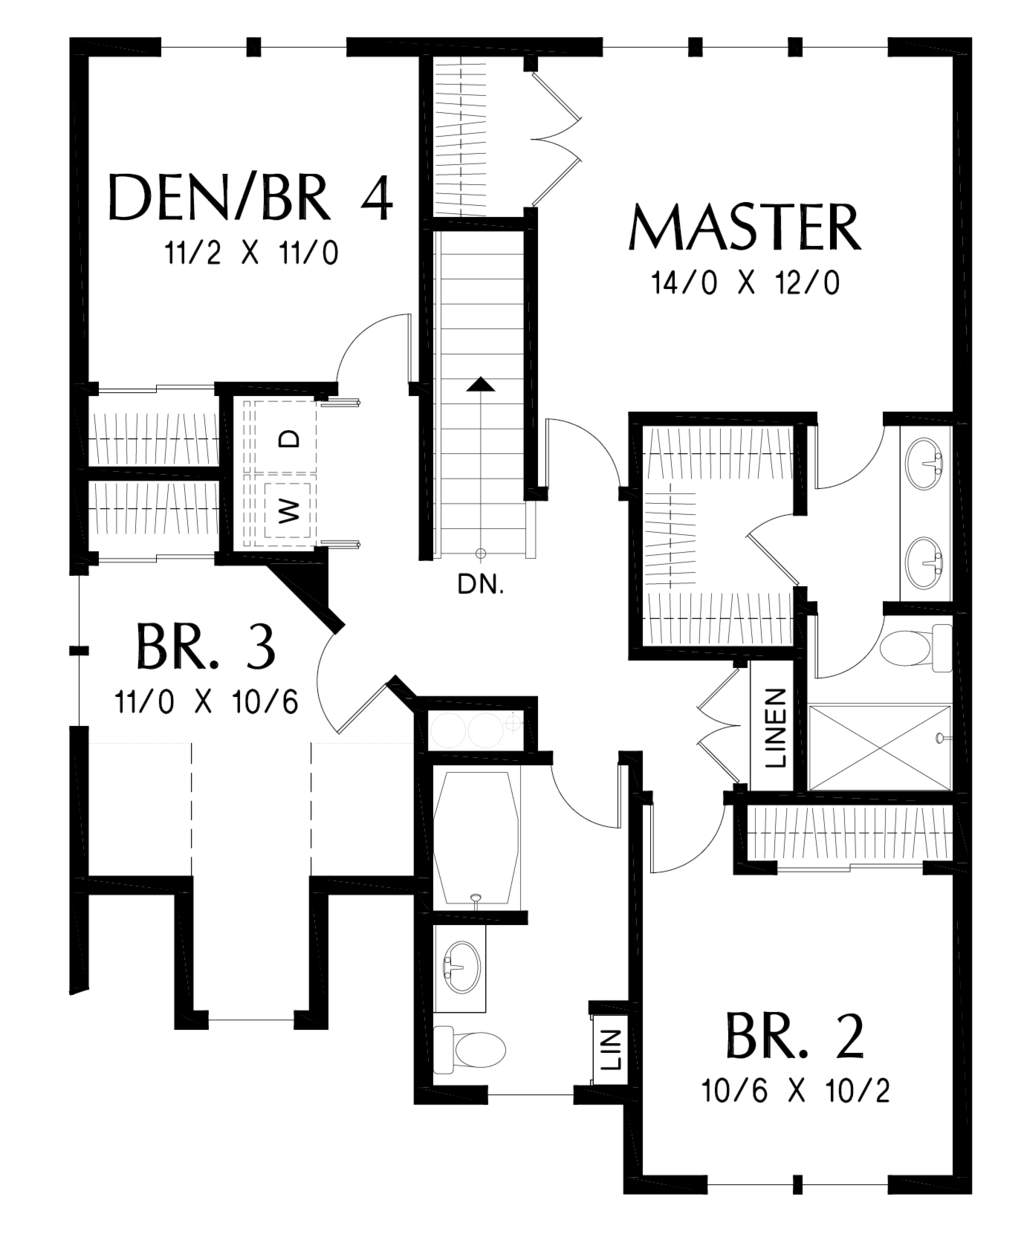door: (301, 626, 403, 741), (518, 66, 590, 214), (533, 397, 628, 493), (324, 301, 414, 401), (549, 739, 630, 843), (689, 660, 755, 785), (647, 789, 726, 883), (808, 406, 881, 493), (731, 504, 803, 593), (820, 602, 883, 683)
large_sink: (879, 612, 962, 697), (424, 1022, 508, 1089)
small_sink: (889, 424, 956, 608), (430, 908, 495, 1014)
stairs: (424, 229, 547, 566)
tub: (428, 762, 524, 918)
window: (69, 576, 91, 749), (708, 1174, 885, 1193)
